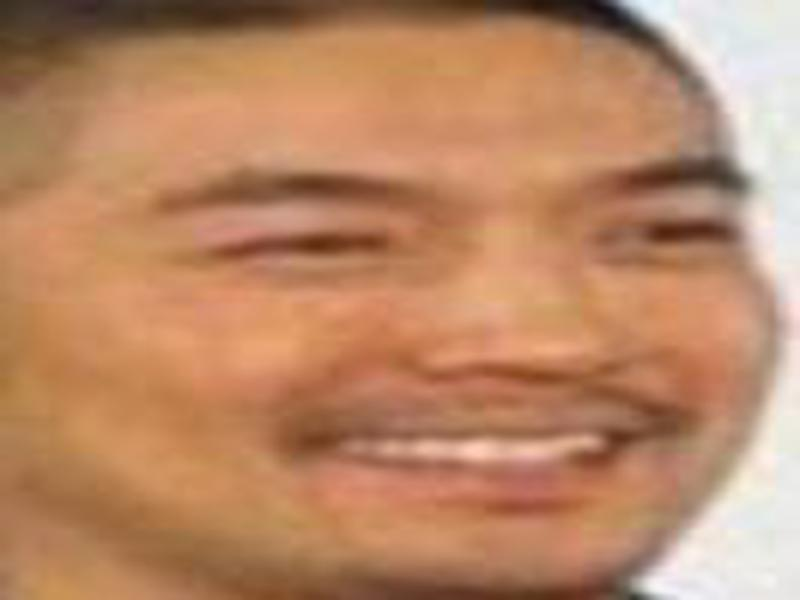without_mask: (34, 23, 782, 600)
